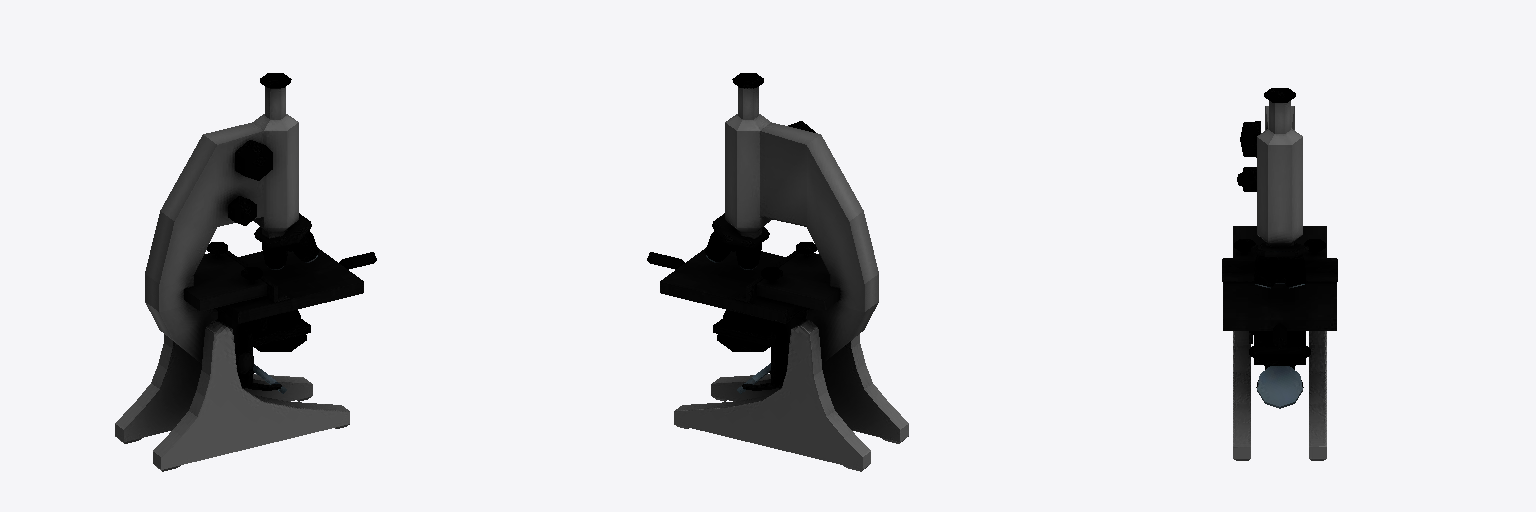
3 renders of one model, left to right at view 1: azimuth 30°, elevation 25°; view 2: azimuth 150°, elevation 25°; view 3: azimuth 270°, elevation 25°, orthographic.
Parts seen in each view (by area): view 1: skin; view 2: skin; view 3: skin.
Boxes of the visible parts, box(x1,y1,x2,y2) form: skin: box(115, 73, 376, 471); skin: box(647, 73, 908, 471); skin: box(1222, 88, 1337, 460).
Bounding box in the file's own units: 1.14 × 1.59 × 0.4871.
Materials: 1 (1 with a texture image).